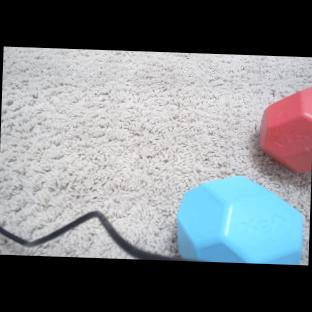V5_BLUE: (172, 173, 305, 265)
V5_RED: (255, 83, 312, 176)
